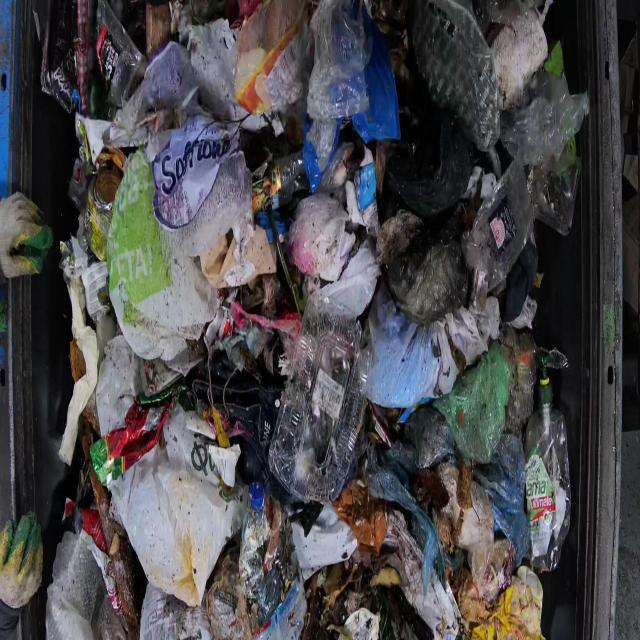bottles: (522, 349, 571, 572)
cardboard: (23, 0, 593, 638)
